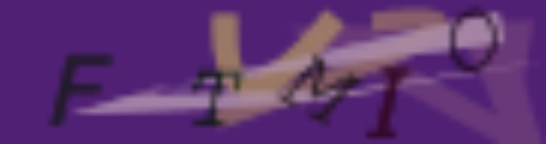F: (47, 52, 117, 130)
I: (363, 66, 413, 141)
M: (278, 52, 361, 127)
O: (447, 5, 504, 74)
T: (185, 67, 244, 132)
